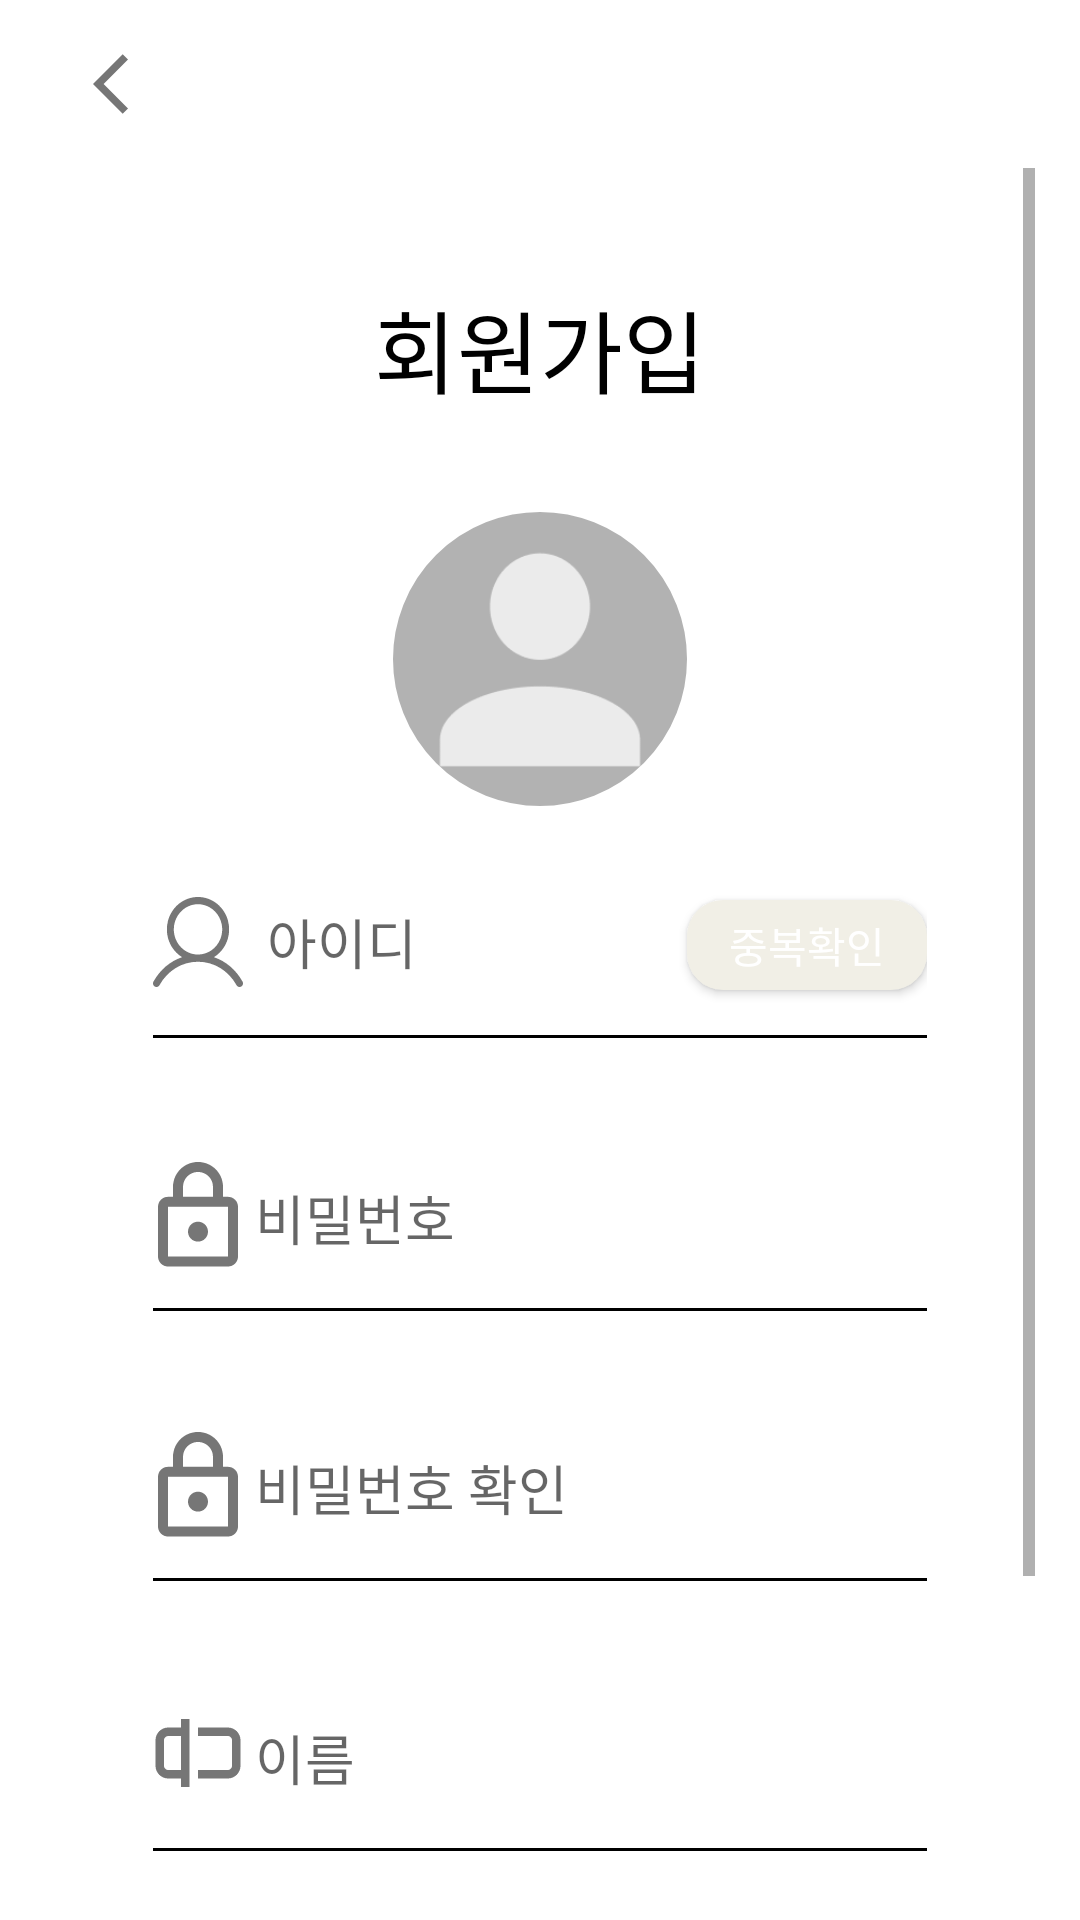

Where icons sit on this 1080 x 1920 app screen, as box(x1, y1, x2, y2):
profile: box(393, 512, 687, 806)
